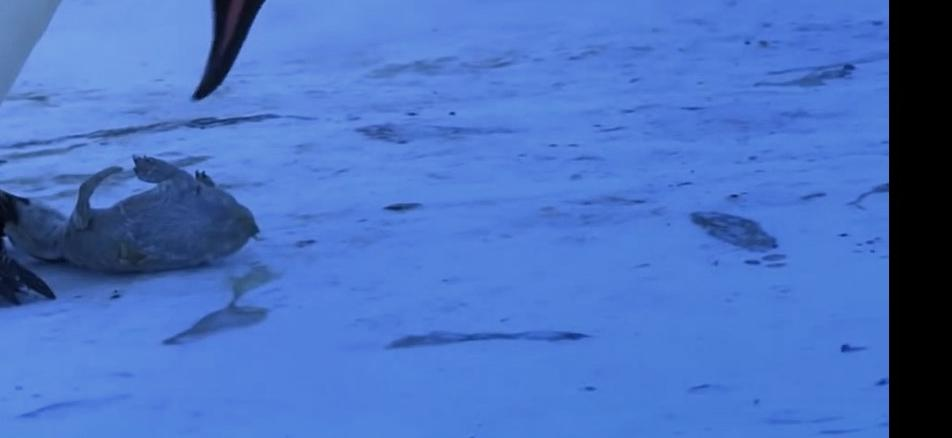Emperor Penguin: (0, 0, 378, 320)
